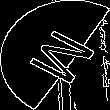M_SE: (14, 22, 96, 88)
